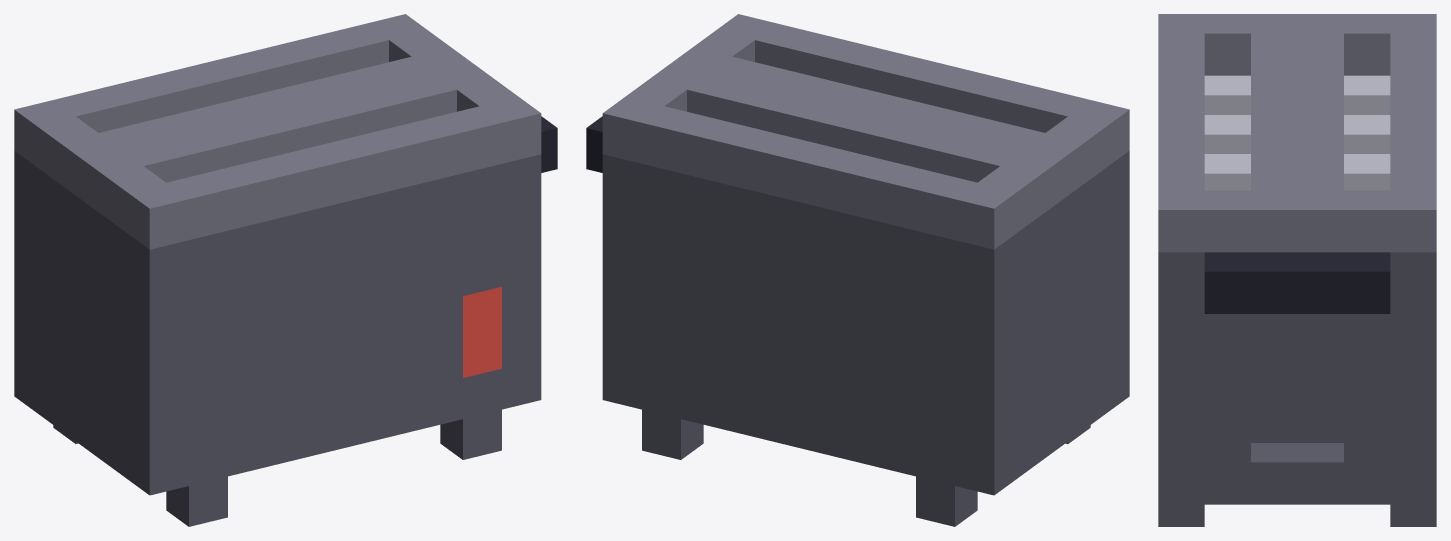
Rendered from Toaster.obj.
The picture shows the model from 3 angles, left to right: view 1: azimuth 30°, elevation 25°; view 2: azimuth 150°, elevation 25°; view 3: azimuth 270°, elevation 25°; orthographic projection. The views are drawn at different scales.
Size of the model in its own units: 1.1 by 0.8 by 0.6.
1 material, 1 textured.
